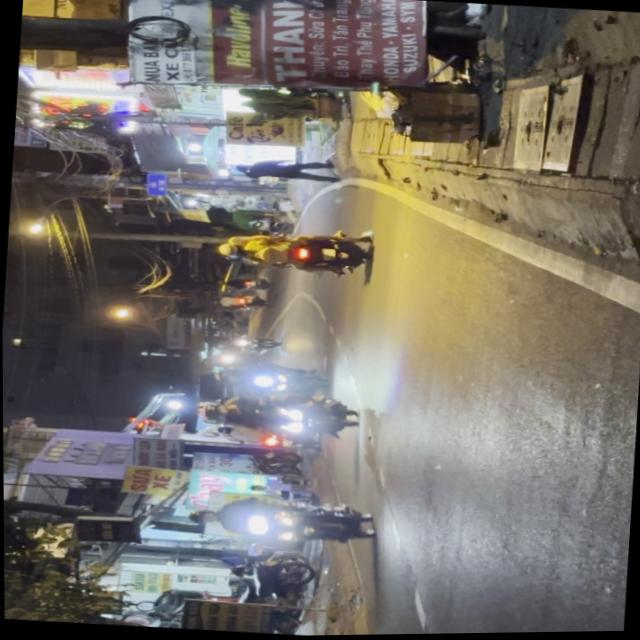helmet: (183, 510, 215, 527)
licenseplate: (181, 489, 377, 554)
